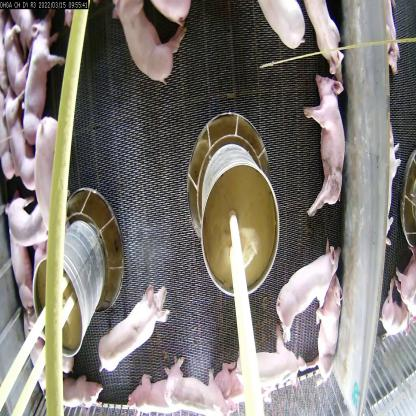Pig: (112, 0, 192, 87), (101, 280, 162, 386), (278, 238, 336, 341), (310, 69, 347, 207), (32, 108, 66, 248), (237, 334, 304, 396), (22, 15, 58, 130), (5, 87, 43, 188), (314, 270, 344, 396), (165, 359, 223, 415), (0, 199, 50, 259), (254, 0, 304, 60), (54, 368, 101, 415), (8, 235, 32, 319), (133, 366, 172, 416)
